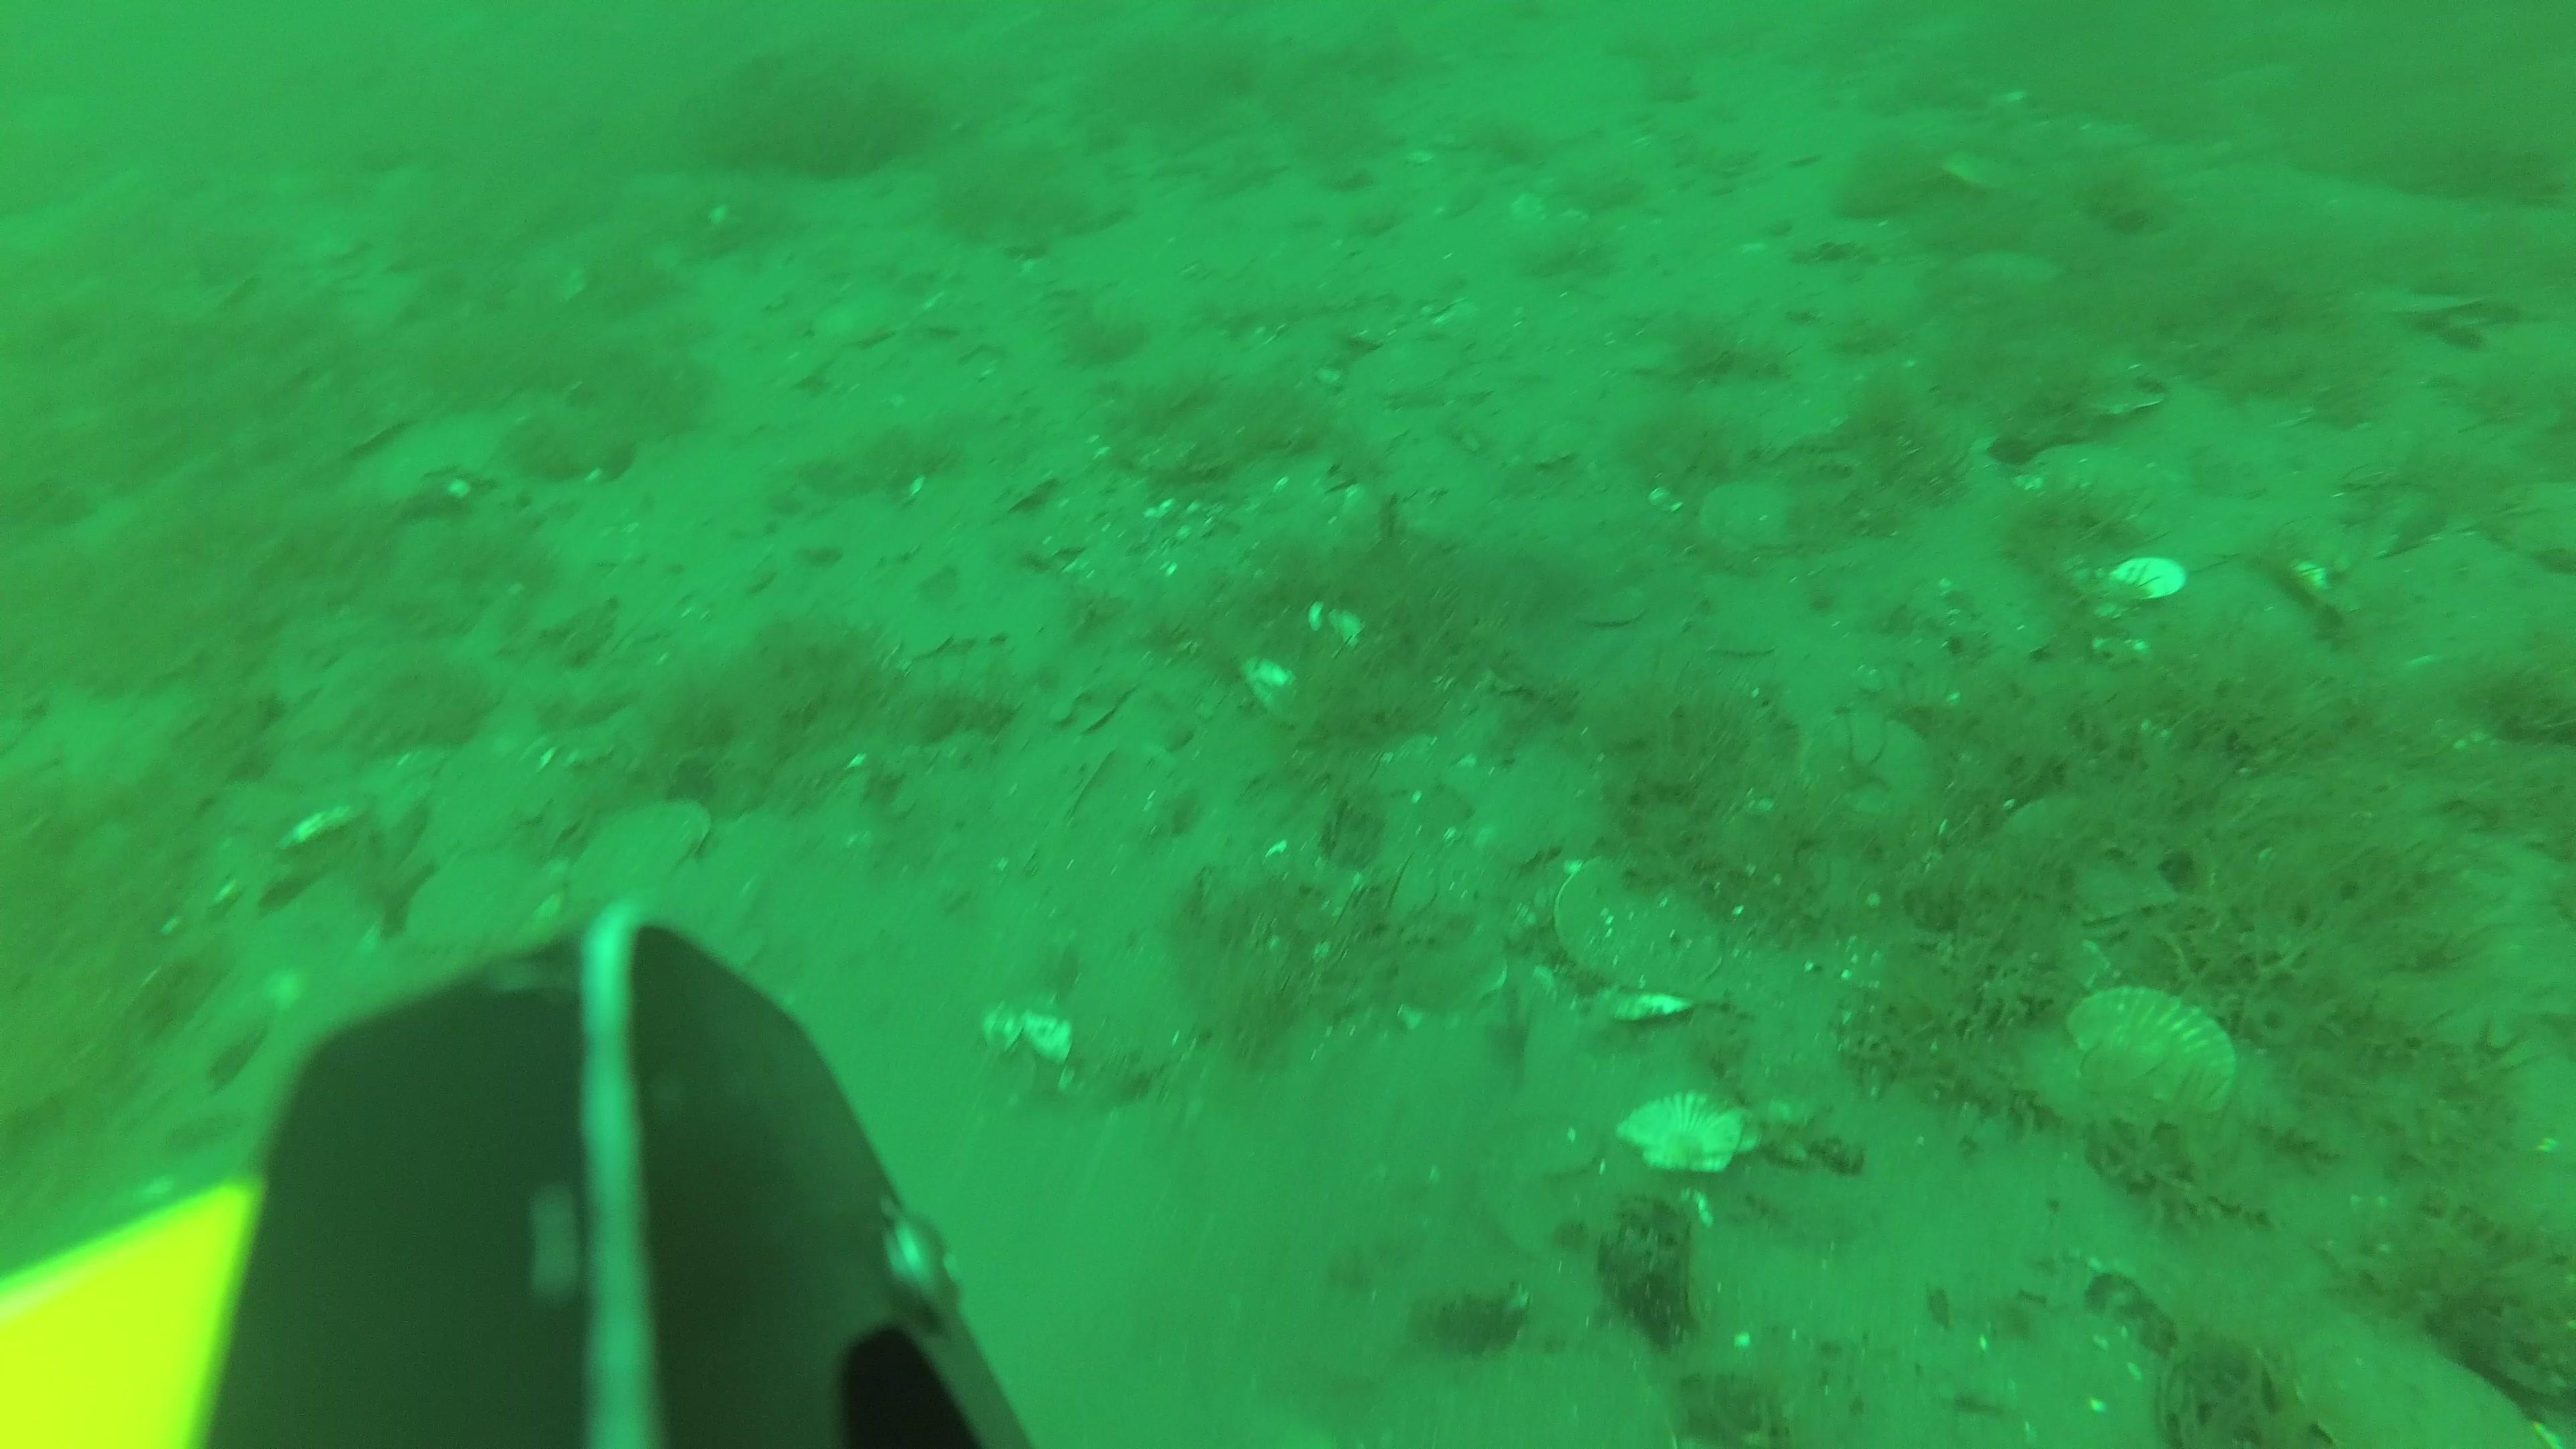scallop: (2286, 1306, 2553, 1449), (1987, 782, 2185, 929), (1548, 853, 1743, 998), (2070, 982, 2243, 1138), (566, 794, 722, 913), (1806, 702, 1943, 832), (1615, 1085, 1775, 1184), (1698, 471, 1812, 561), (1339, 331, 1465, 403), (809, 278, 922, 352), (1511, 1127, 1601, 1189)
